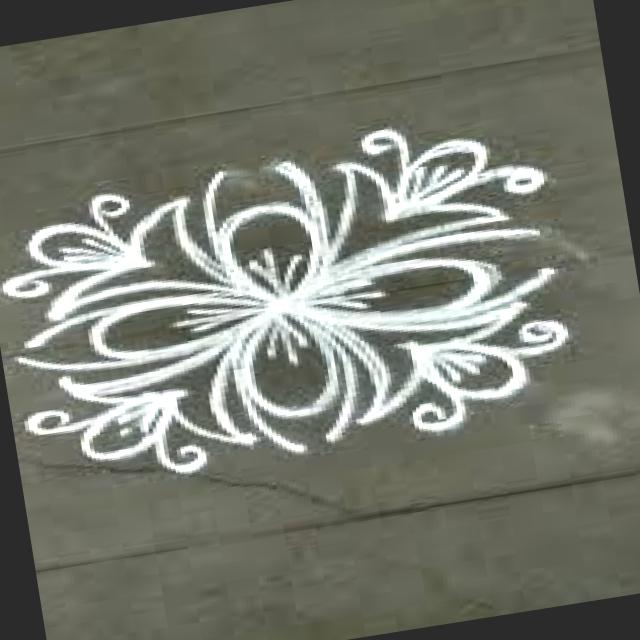rangoli: (0, 90, 619, 508)
